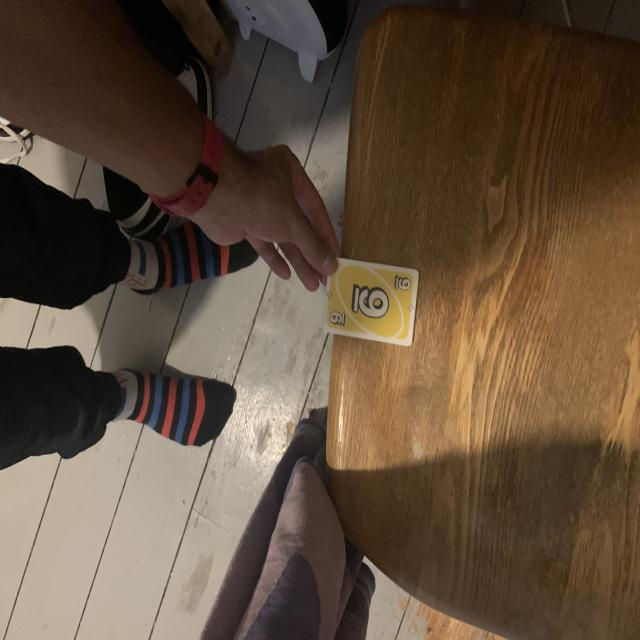lyellow-9: (327, 309, 347, 331)
